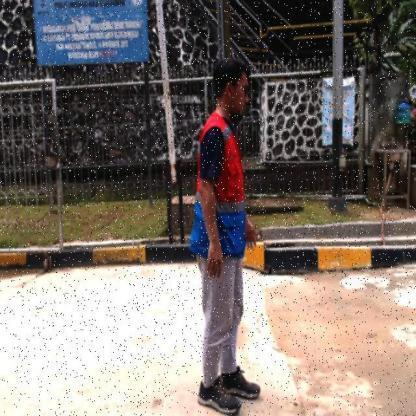boots: (197, 373, 243, 415), (220, 365, 264, 399)
